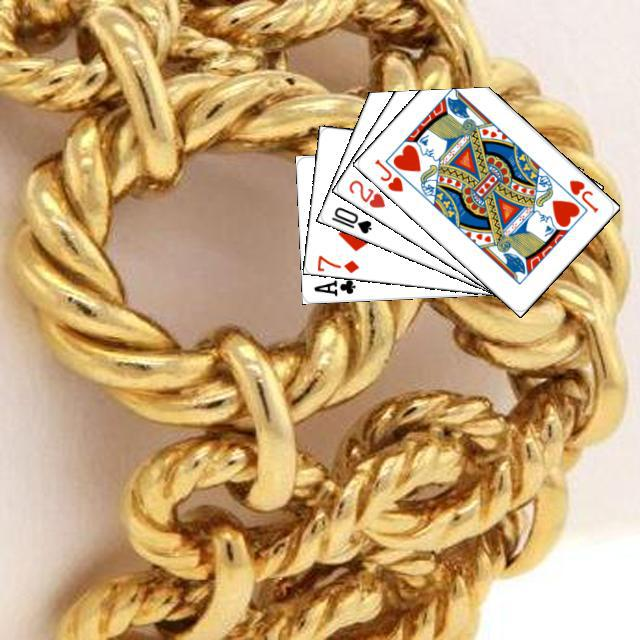10s: (326, 202, 373, 235)
2h: (344, 175, 387, 210)
7d: (312, 250, 361, 275)
Ac: (309, 275, 357, 298)
Jh: (369, 154, 405, 194), (564, 175, 600, 214)
